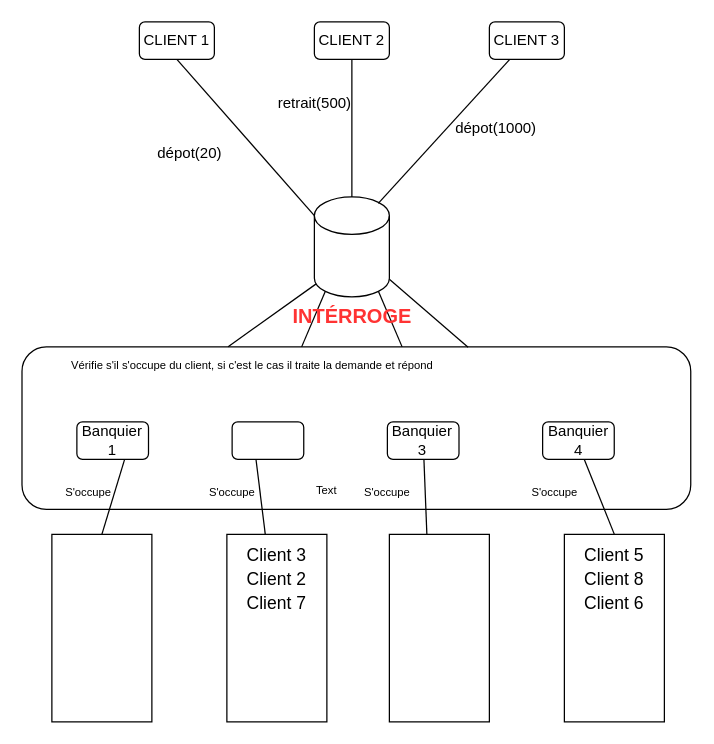
Some shapes in this 714 by 744 pixel diagram are drawn without their labels. The box of each missing label's shape, as (x1, y1, x2, y2) in pixels:
BANQUE: (313, 196, 389, 297)
Banquier 2: (231, 421, 304, 459)
Client 11 Client 10 Client 12: (388, 533, 489, 722)
Client 4 Client 8 Client 1: (51, 533, 152, 722)
